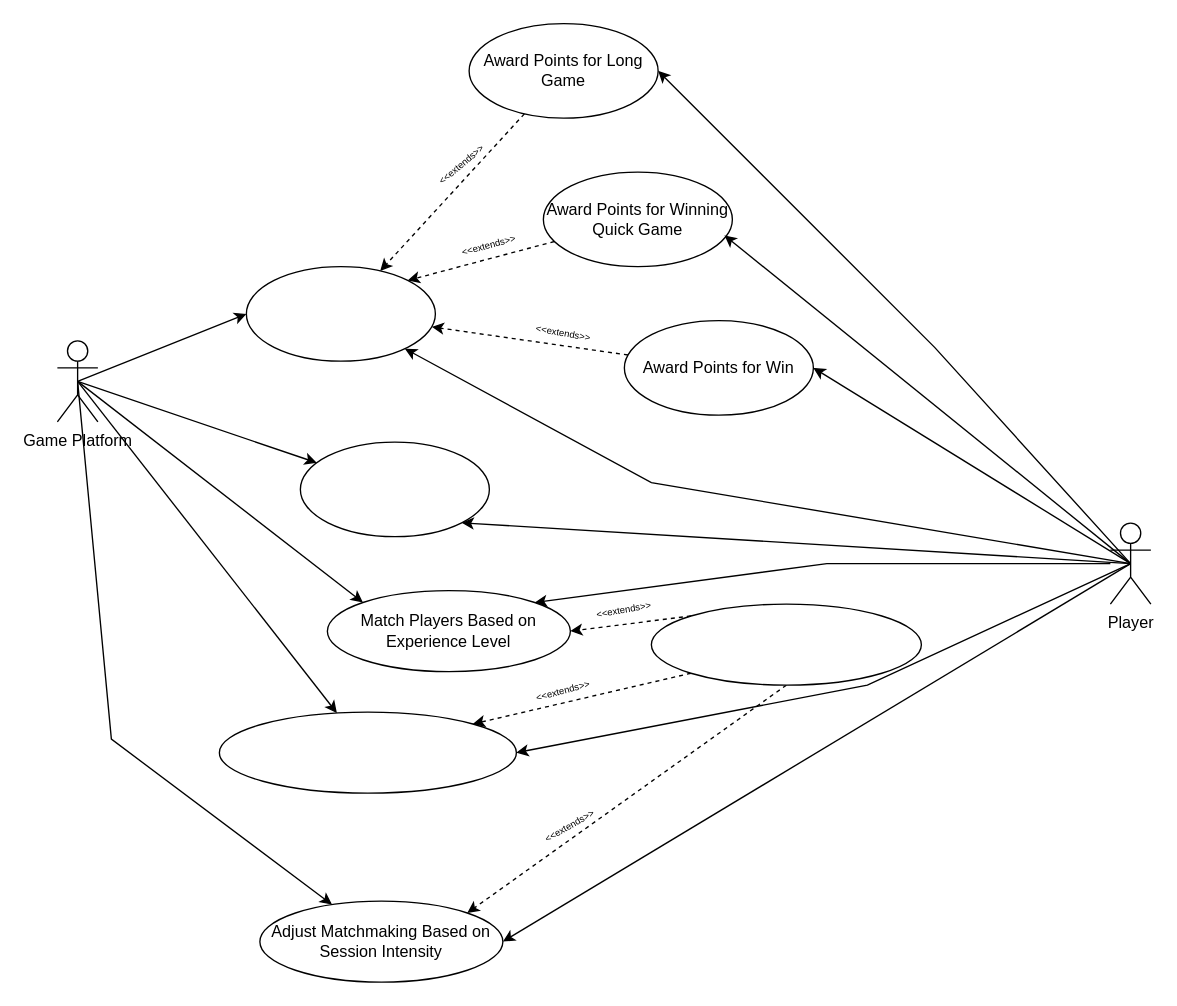
The diagram is 1177 pixels wide and 1006 high, and some of its shapes have lost their labels. Each missing label, with the centre of its shape:
Alternative Matching Strategy (AI/Cross-region): the point at 785,644
Award Experience Points Base: the point at 340,313
Handle Matchmaking for Highly Skilled Players: the point at 367,752
Increase Level: the point at 394,489
